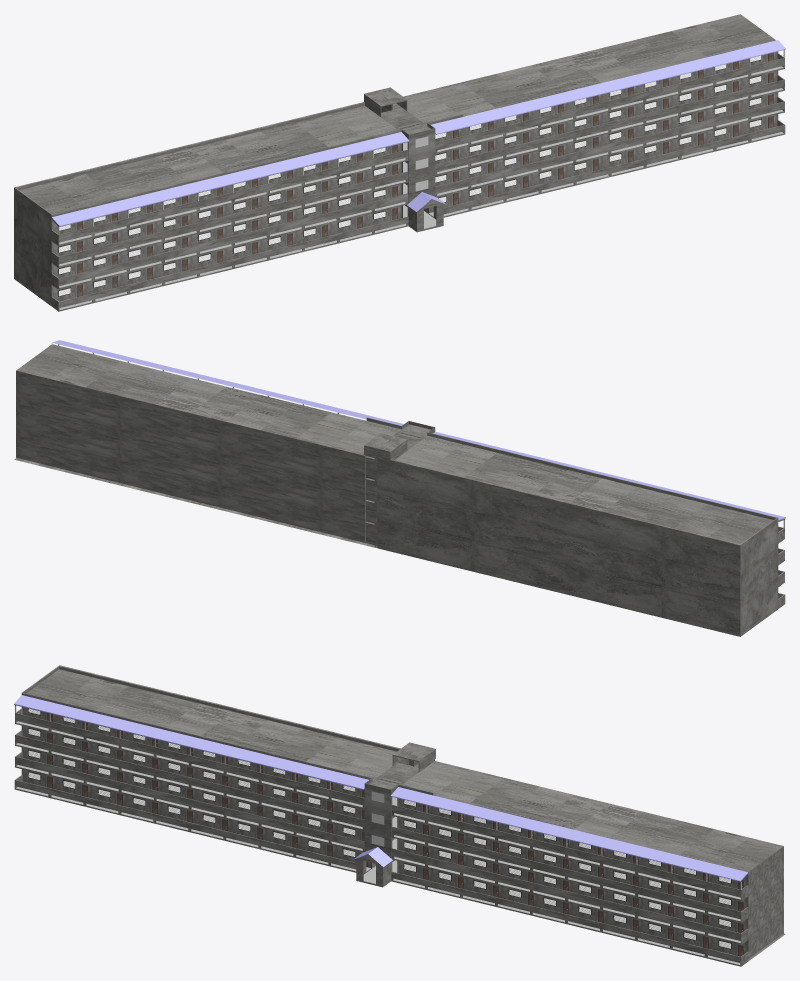
File: Building.fbx
3 views of the same model, one above another, from view 1: azimuth 30°, elevation 25°; view 2: azimuth 150°, elevation 25°; view 3: azimuth 330°, elevation 25° (orthographic).
Parts seen in each view (by area): view 1: Circle.082; view 2: Circle.082; view 3: Circle.082.
Boxes of the visible parts, x1,y1,x2,y2 form: Circle.082: [14, 14, 785, 311]; Circle.082: [14, 340, 785, 636]; Circle.082: [14, 665, 785, 966].
Size of the model in its own units: 55844 by 7325 by 7267.
